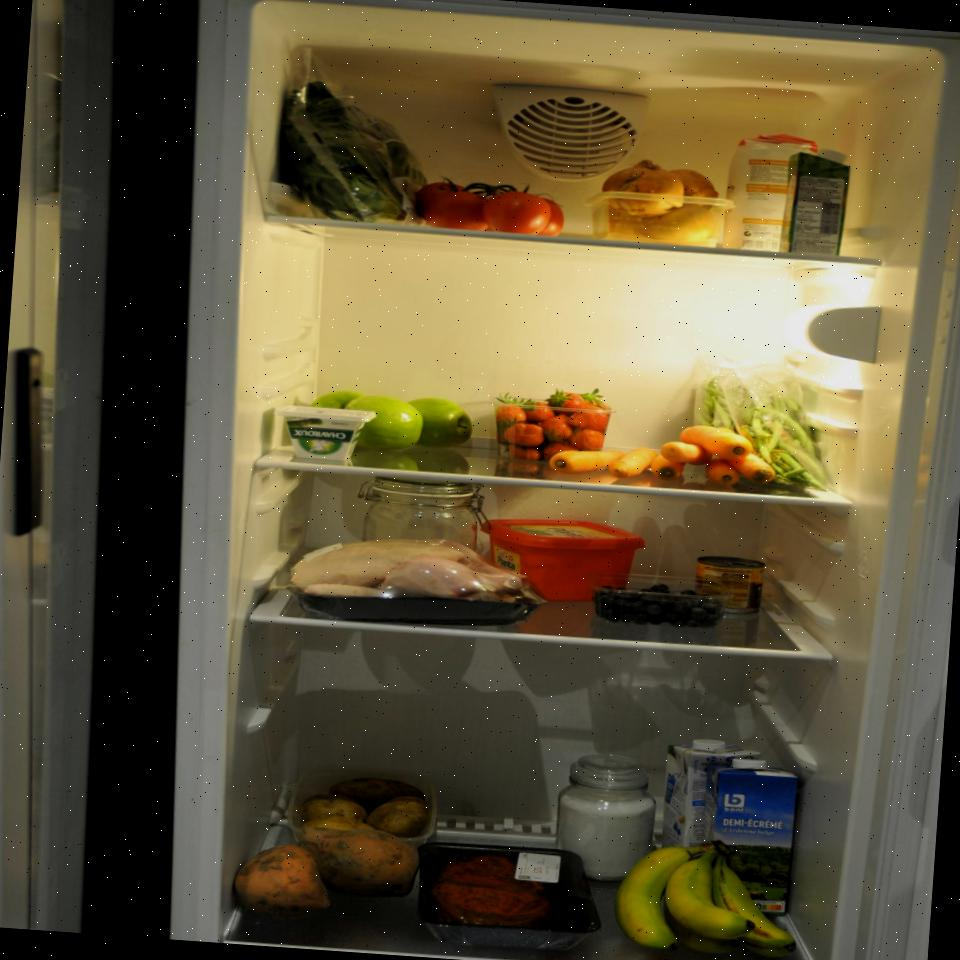Carne pollo: (274, 520, 553, 634)
Leche: (694, 752, 806, 925), (655, 734, 761, 878)
Mantequilla: (479, 514, 644, 608)
Manzana: (304, 386, 480, 456)
Plátano: (616, 828, 797, 960)
Tomate: (412, 170, 574, 243)
Zanahoria: (652, 421, 791, 493), (546, 442, 652, 484)
